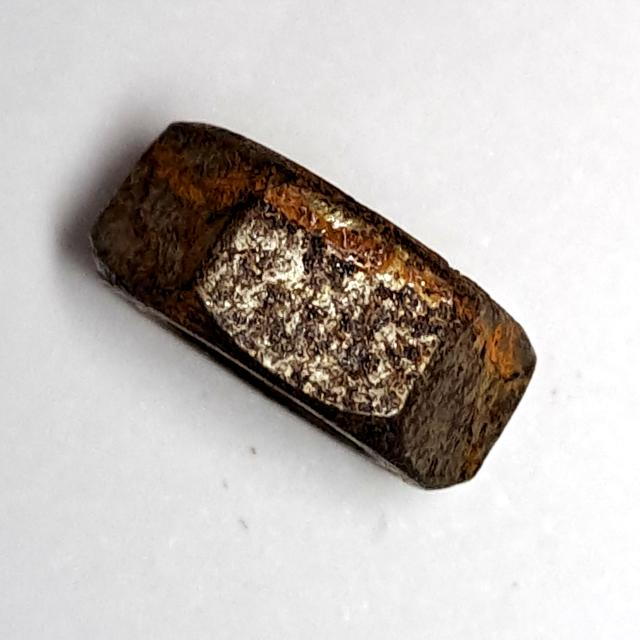Side_Rust: (72, 107, 552, 510)
